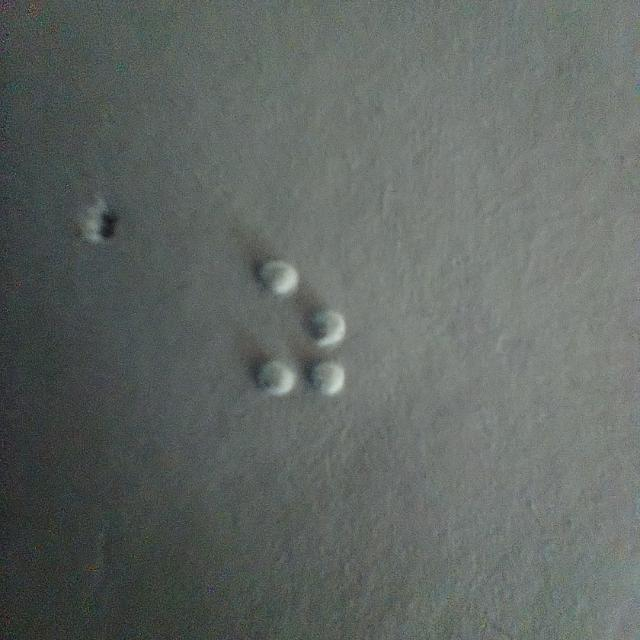letter_z: (245, 256, 354, 404)
